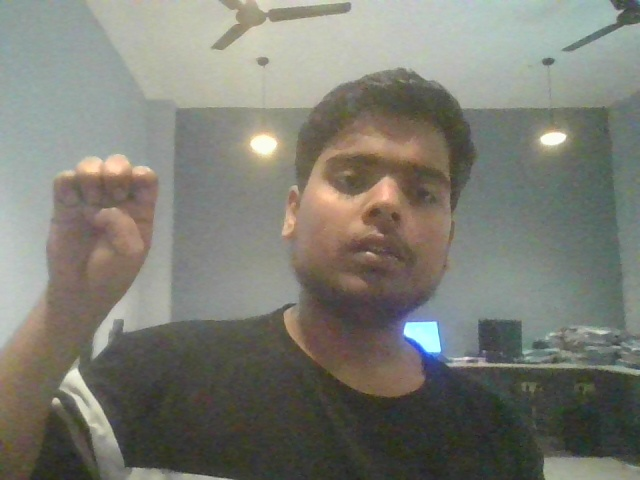E: (28, 141, 182, 346)
